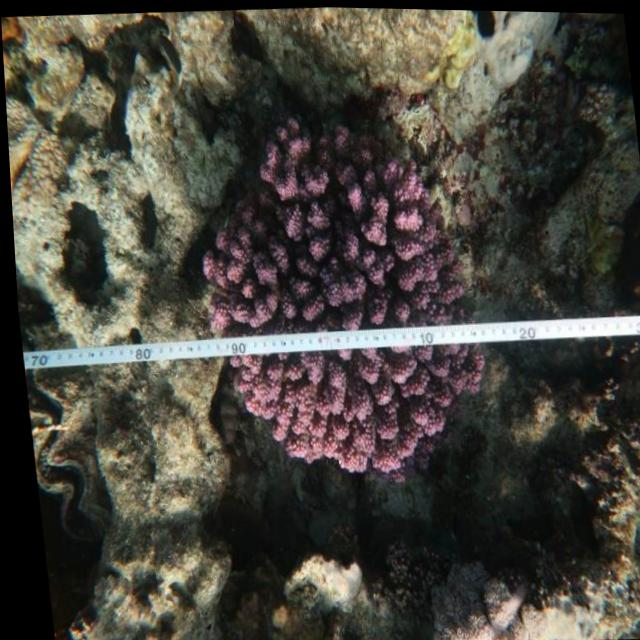Healthy Coral: (179, 99, 495, 490)
